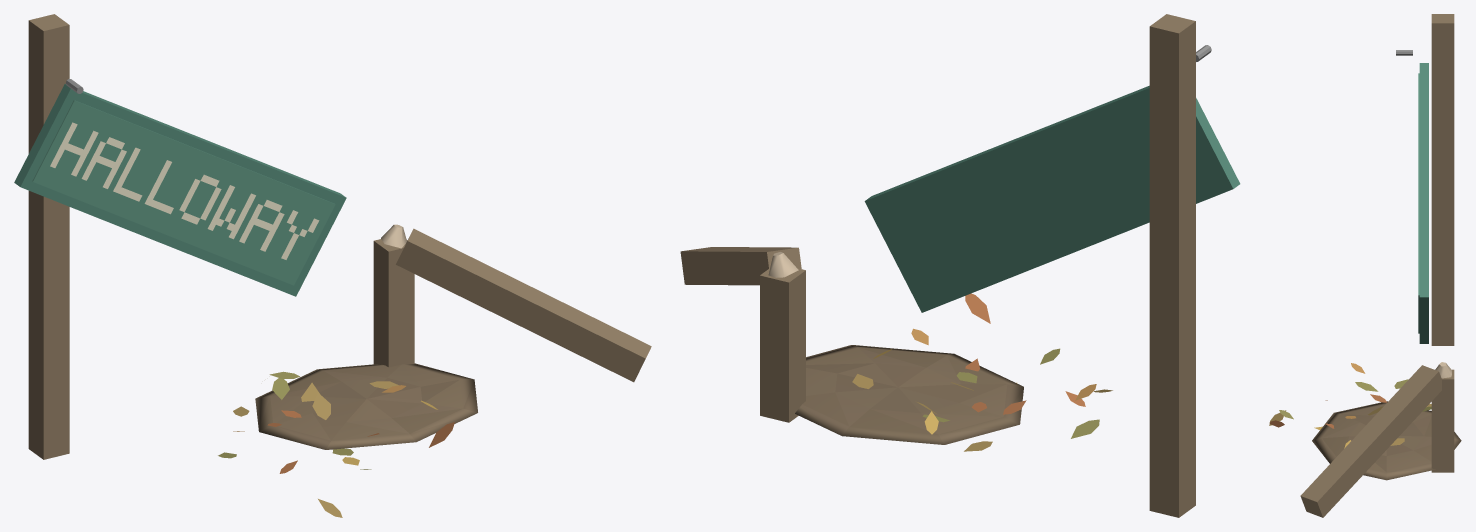
The model's file is storm_sign_damaged_a.glb.
3 views of the same model, side by side, from view 1: azimuth 30°, elevation 25°; view 2: azimuth 150°, elevation 25°; view 3: azimuth 270°, elevation 25° (orthographic). The views are drawn at different scales.
Visible parts, largest first — view 1: body, board; view 2: body, board; view 3: body, board.
Boxes of the visible parts, bbox=[...] form: body: bbox=[28, 14, 651, 517]; board: bbox=[14, 78, 346, 296]; body: bbox=[680, 14, 1195, 517]; board: bbox=[864, 45, 1240, 312]; body: bbox=[1269, 14, 1461, 517]; board: bbox=[1396, 50, 1428, 343].
Bounding box in the file's own units: 2.61 × 2.01 × 1.03.
